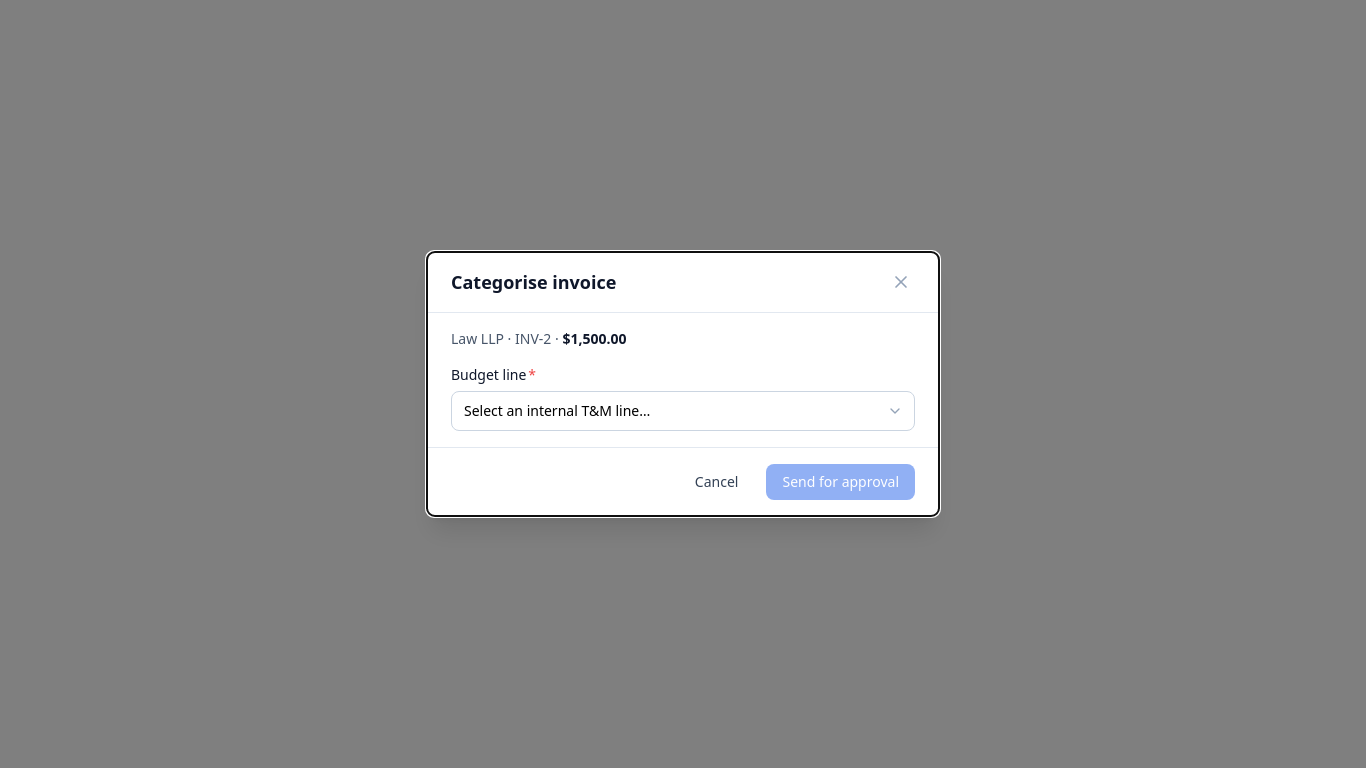
Test: CategoriseInvoiceModal › explains that a draft budget creates no variance
Select "Attorney — $1,000.00 left" in the dropdown labelled "Budget line*". click: (683, 411)
box: [451,391,915,431]
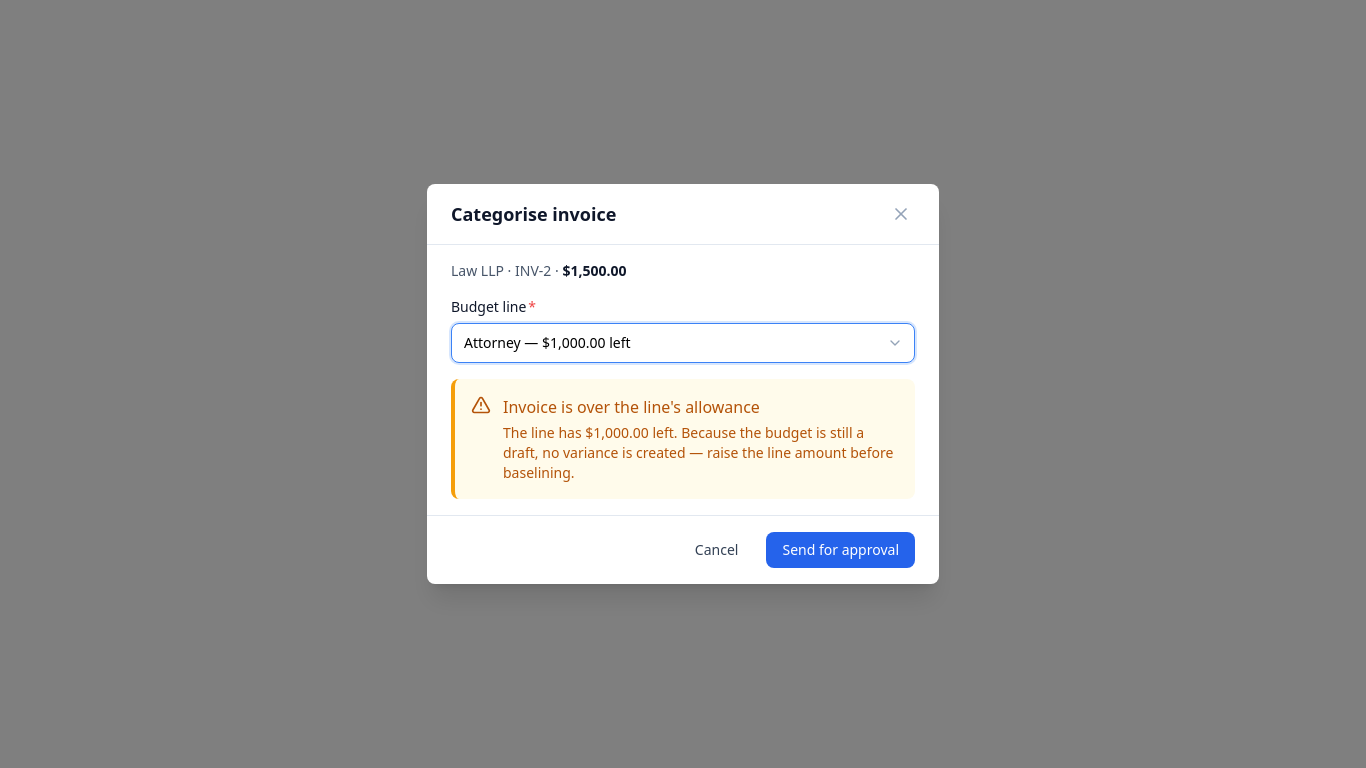
Check: the text "no variance is created" is shown, box [503,423,893,482]
